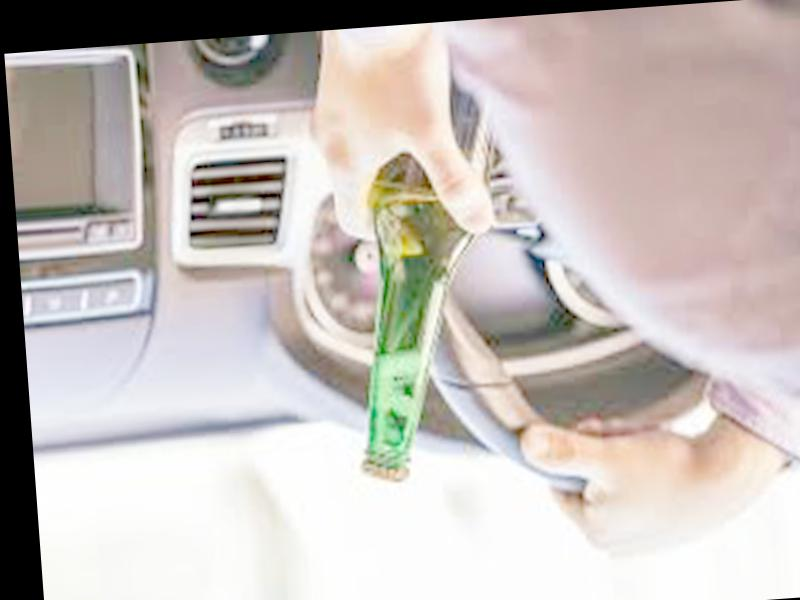Beer: (328, 37, 525, 487)
